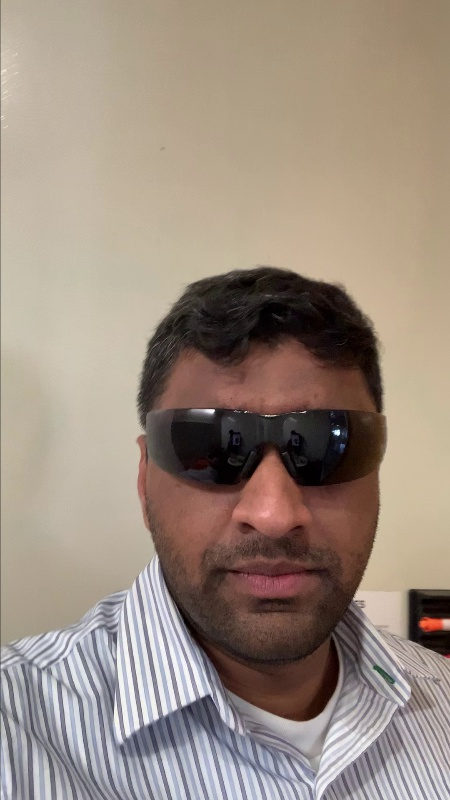glasses: (131, 389, 391, 495)
